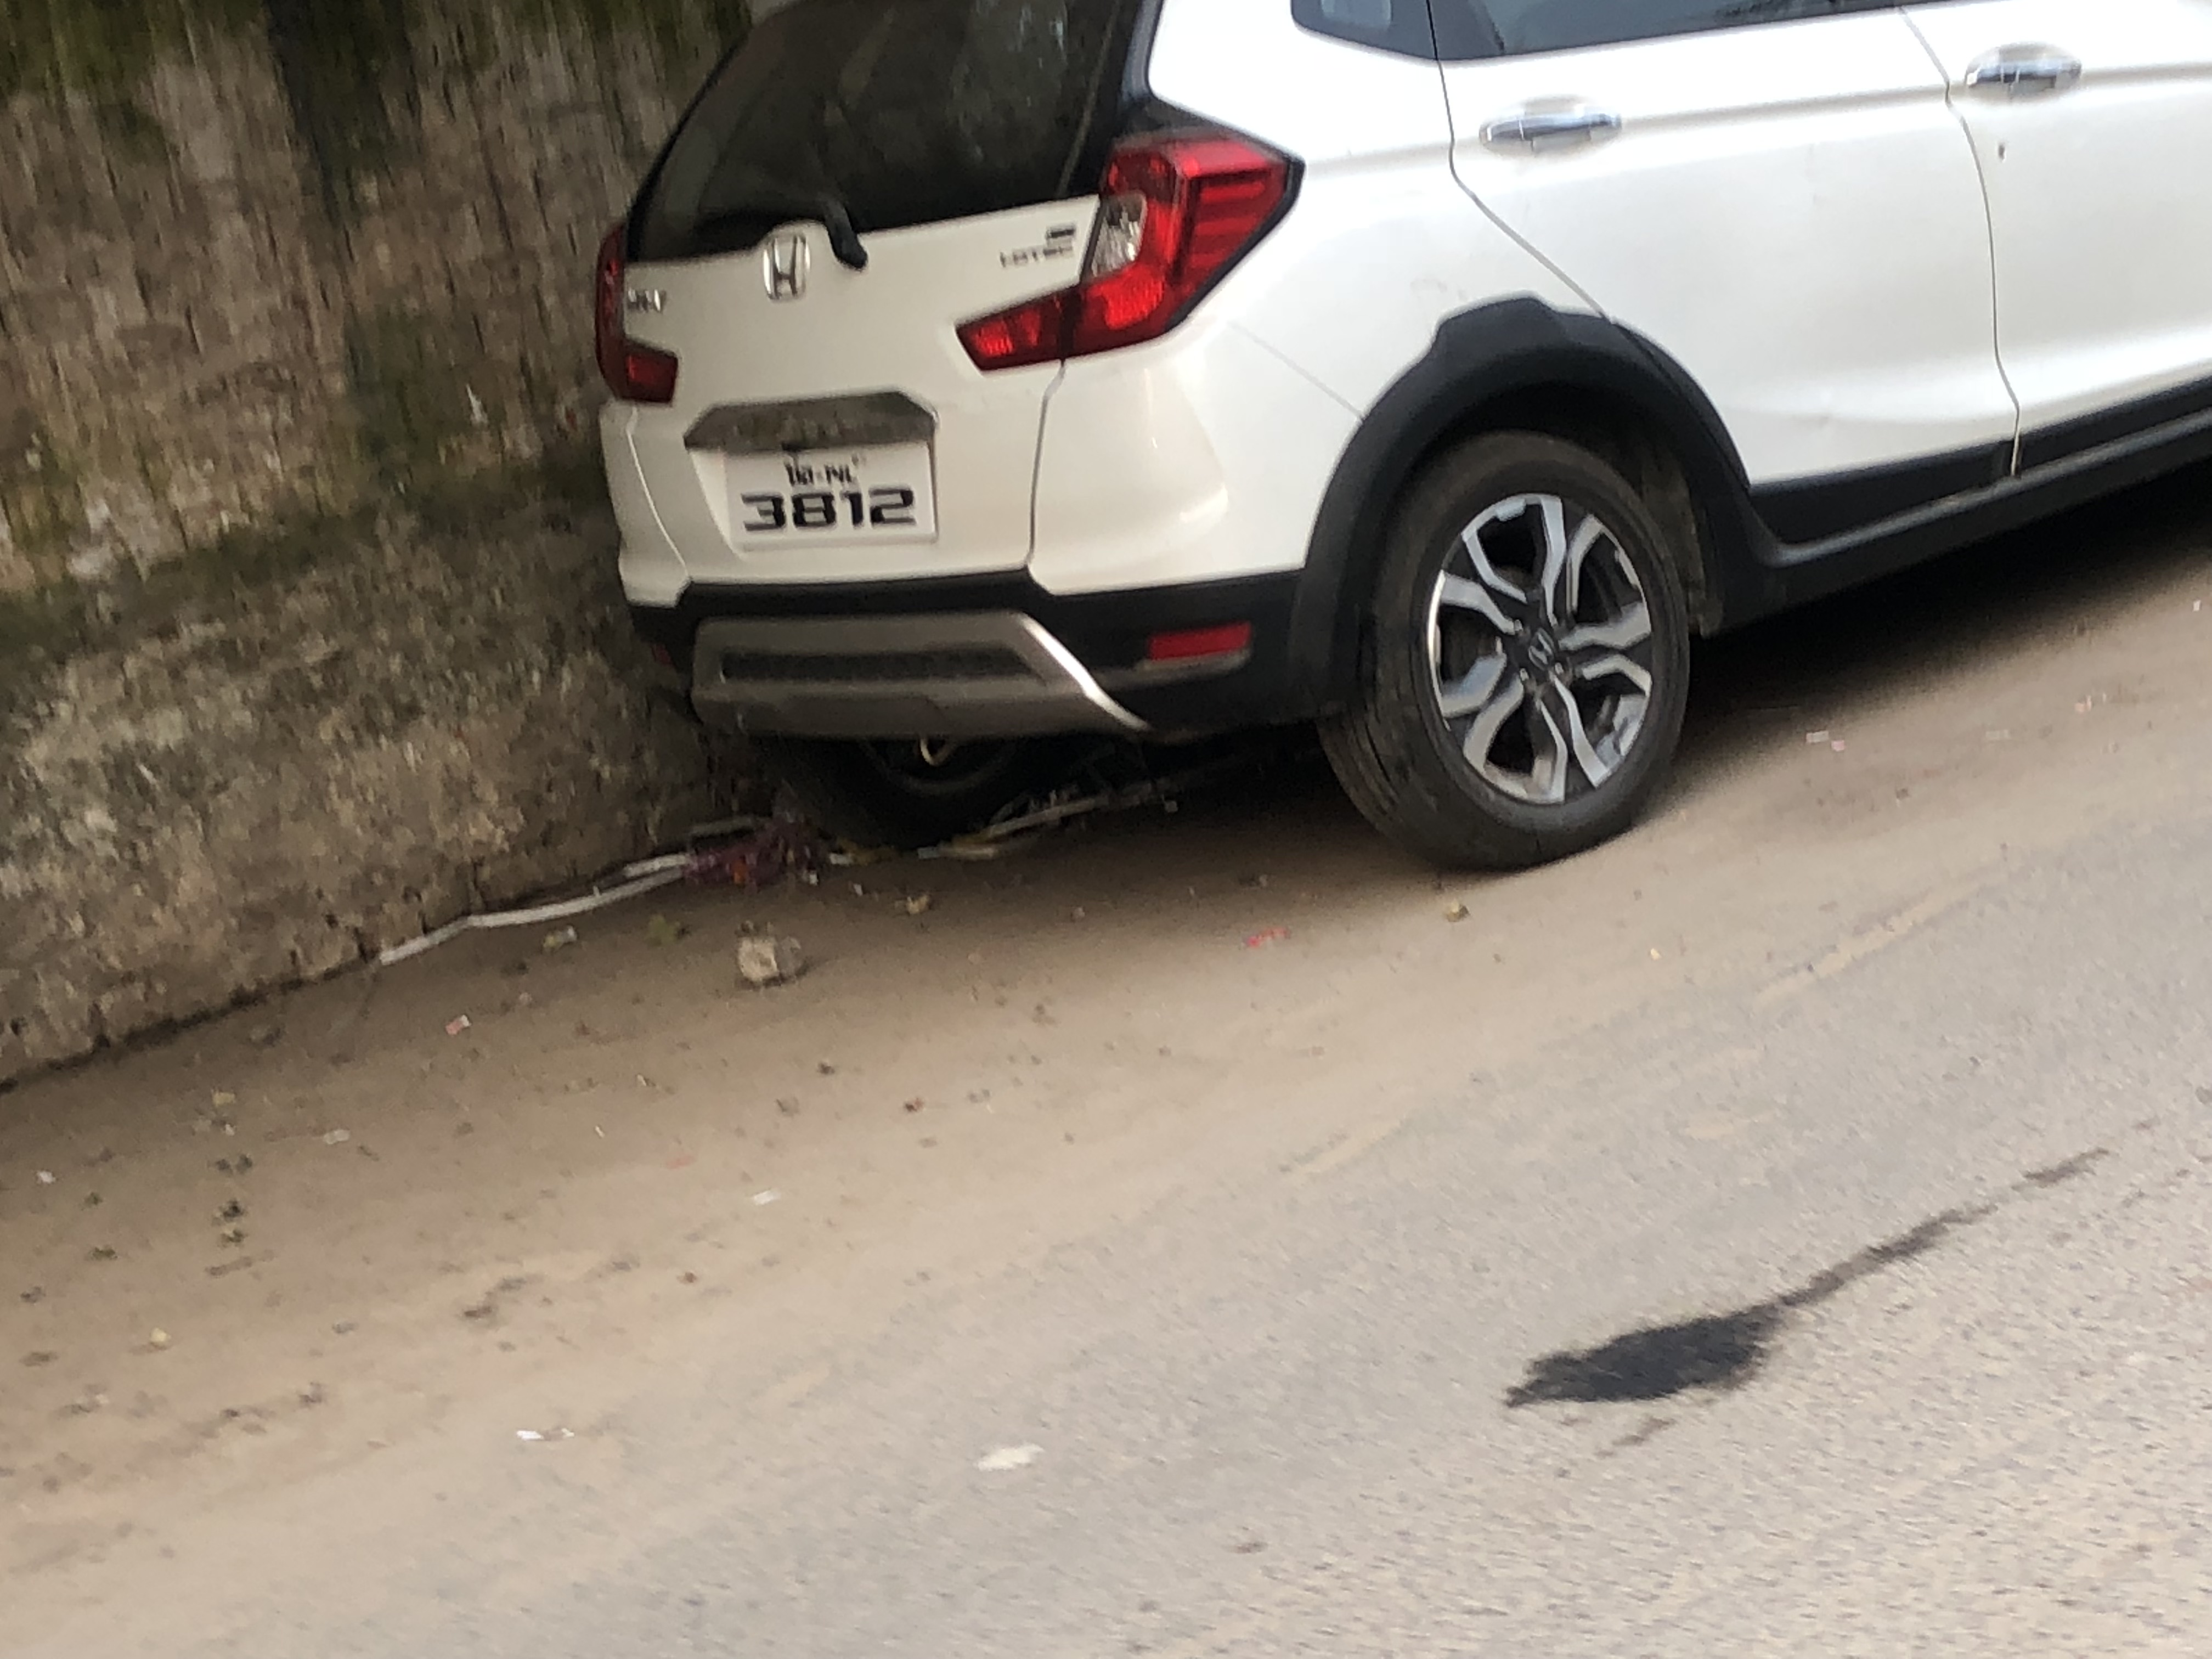licenseplate: (723, 431, 940, 545)
